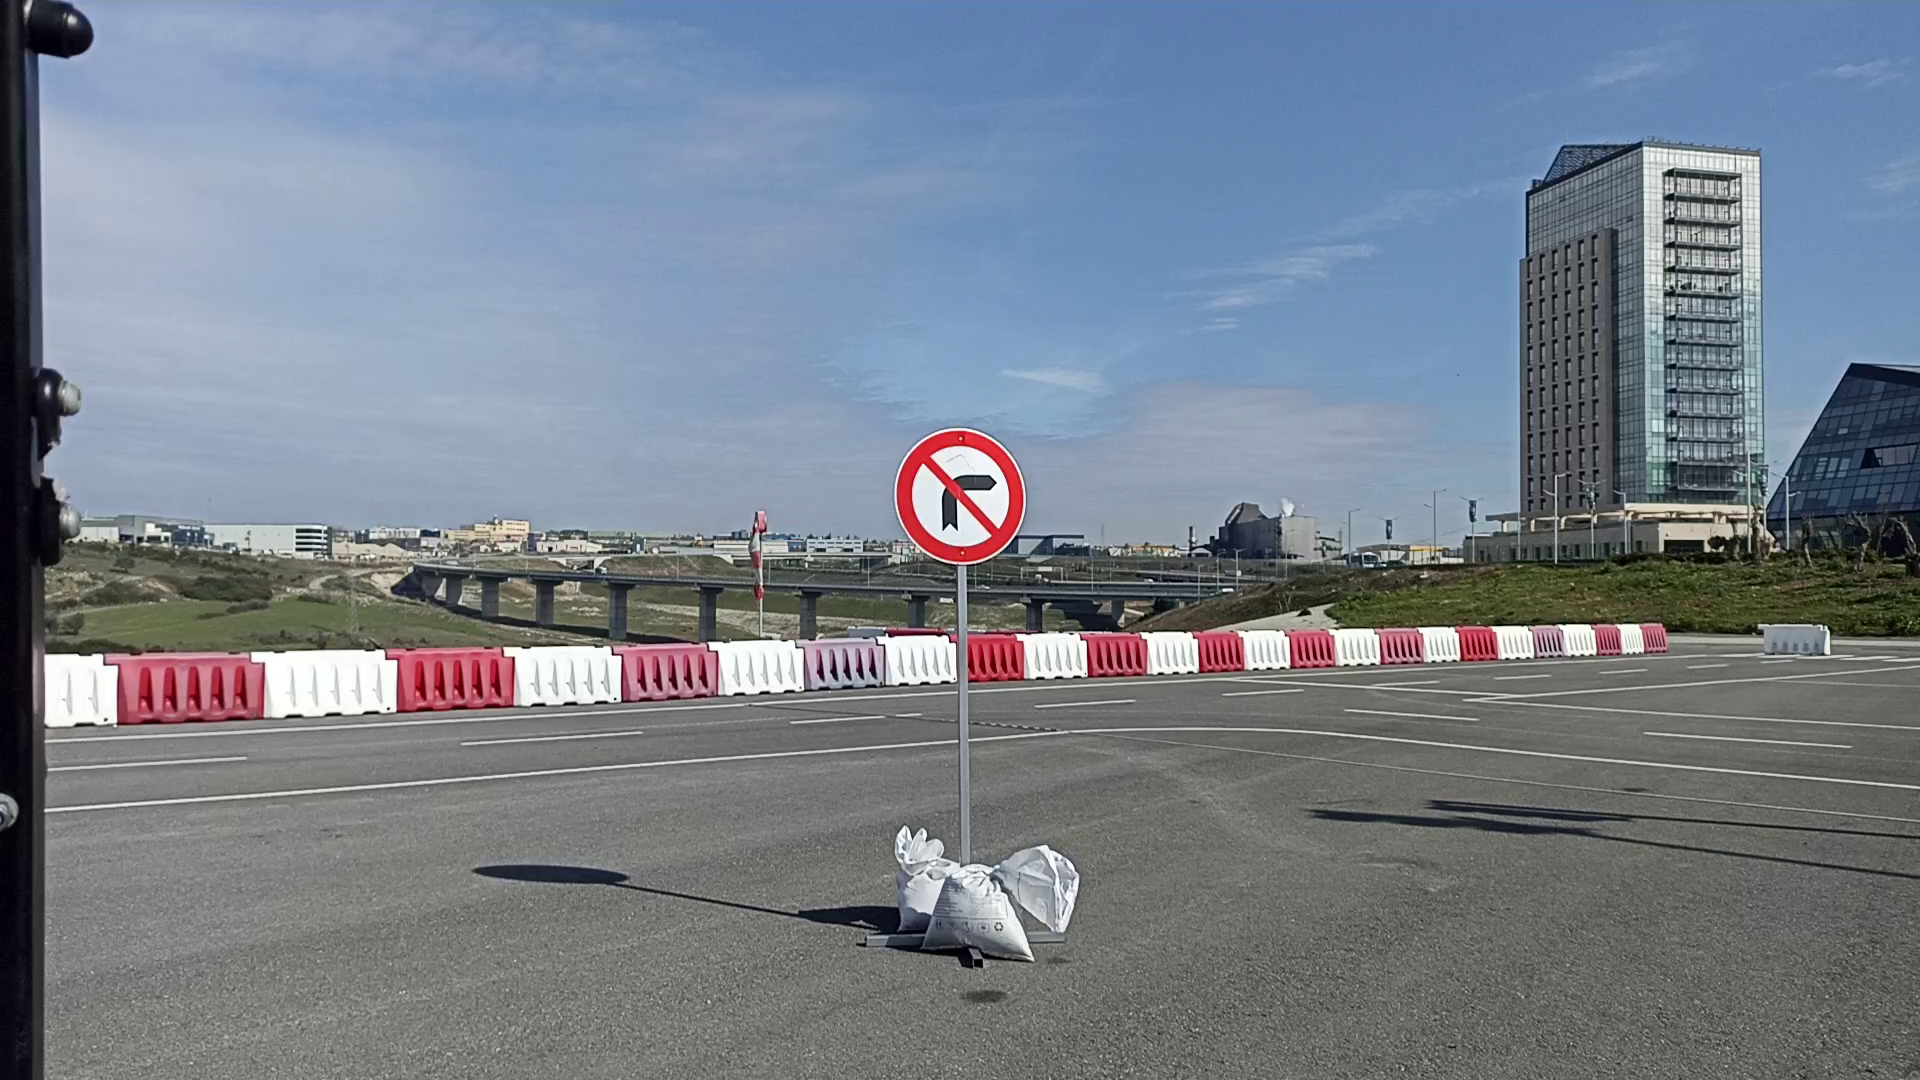noleftturn: (890, 423, 1034, 572)
